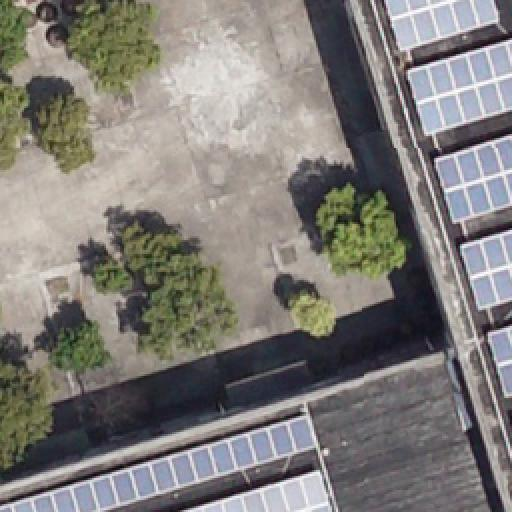solar-panel: (0, 412, 320, 512), (408, 40, 512, 136), (433, 133, 511, 219), (182, 468, 334, 512), (381, 0, 499, 52), (457, 230, 511, 306), (484, 323, 512, 397)
